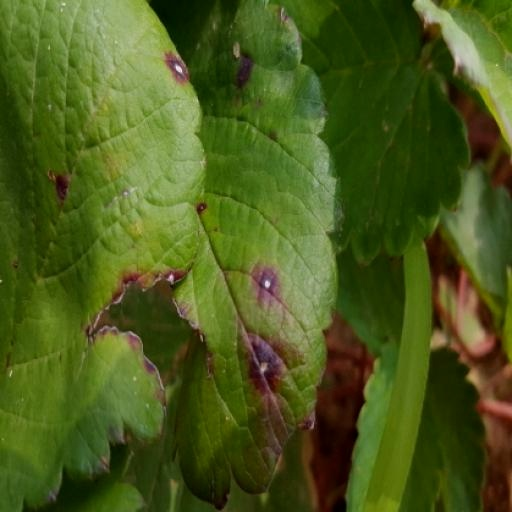Leaf Spot: (304, 0, 511, 511), (167, 0, 363, 511)
